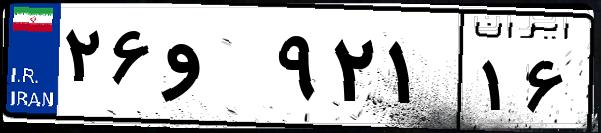1: (385, 28, 445, 110), (475, 38, 525, 113)
2: (330, 28, 385, 110), (57, 26, 110, 100)
6: (525, 38, 570, 115), (110, 28, 158, 98)
9: (270, 28, 330, 110)
و: (158, 20, 270, 120)
